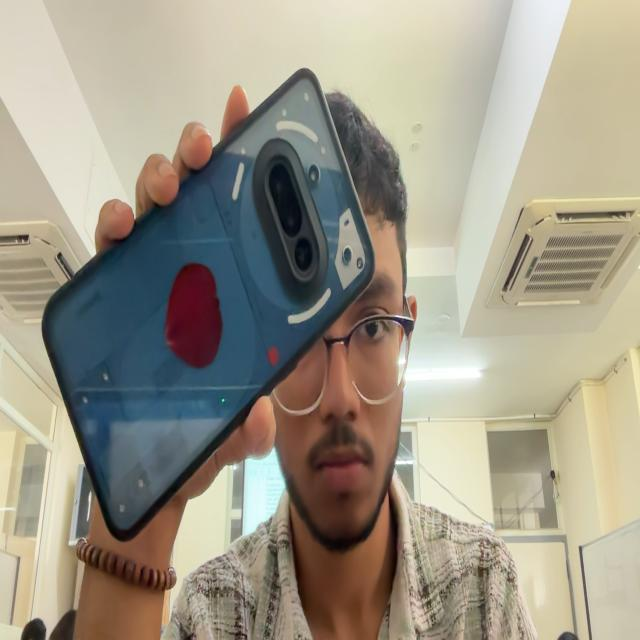Useful: (42, 69, 374, 540)
